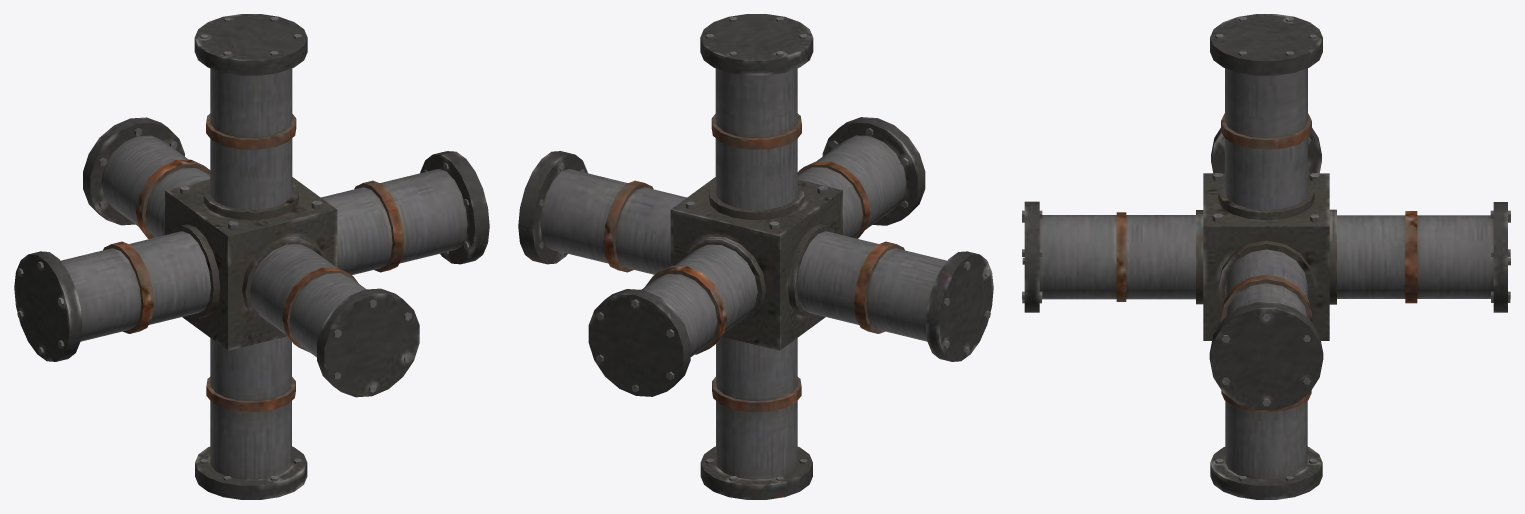
Rendered from fePipe.glb.
3 views of the same model, side by side, from view 1: azimuth 30°, elevation 25°; view 2: azimuth 150°, elevation 25°; view 3: azimuth 270°, elevation 25° (orthographic).
Parts seen in each view (by area): view 1: FeArm_PX, FeArm_PY, FeArm_PZ, fePipe_Core, FeArm_NX, FeArm_NY, FeArm_NZ; view 2: FeArm_PX, FeArm_PY, FeArm_NZ, fePipe_Core, FeArm_NX, FeArm_NY, FeArm_PZ; view 3: FeArm_PY, FeArm_PZ, FeArm_NZ, FeArm_NX, fePipe_Core, FeArm_NY, FeArm_PX.
Boxes of the visible parts, left/top/right/bottom form: FeArm_PX: left=14, top=231, right=210, bottom=361; FeArm_PY: left=194, top=14, right=307, bottom=209; FeArm_PZ: left=250, top=244, right=419, bottom=397; fePipe_Core: left=165, top=177, right=337, bottom=350; FeArm_NX: left=321, top=151, right=489, bottom=274; FeArm_NY: left=195, top=336, right=307, bottom=499; FeArm_NZ: left=83, top=117, right=210, bottom=238; FeArm_PX: left=797, top=231, right=993, bottom=361; FeArm_PY: left=700, top=14, right=813, bottom=209; FeArm_NZ: left=588, top=244, right=757, bottom=396; fePipe_Core: left=670, top=177, right=842, bottom=350; FeArm_NX: left=518, top=151, right=686, bottom=274; FeArm_NY: left=700, top=336, right=812, bottom=499; FeArm_PZ: left=797, top=117, right=925, bottom=238; FeArm_PY: left=1210, top=14, right=1322, bottom=209; FeArm_PZ: left=1022, top=201, right=1195, bottom=312; FeArm_NZ: left=1337, top=202, right=1510, bottom=312; FeArm_NX: left=1209, top=249, right=1323, bottom=410; fePipe_Core: left=1196, top=173, right=1336, bottom=340; FeArm_NY: left=1210, top=390, right=1322, bottom=499; FeArm_PX: left=1211, top=128, right=1321, bottom=173.
Bounding box in the file's own units: 1.01 × 1.01 × 1.01.
2 materials, 1 textured.
